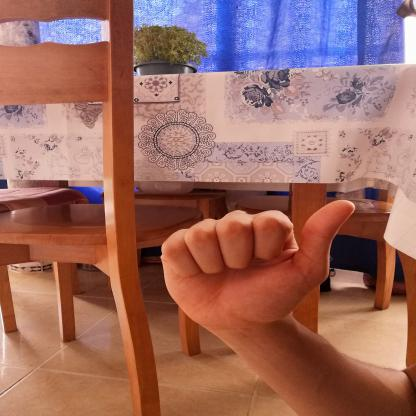DAD: (148, 189, 368, 342)
